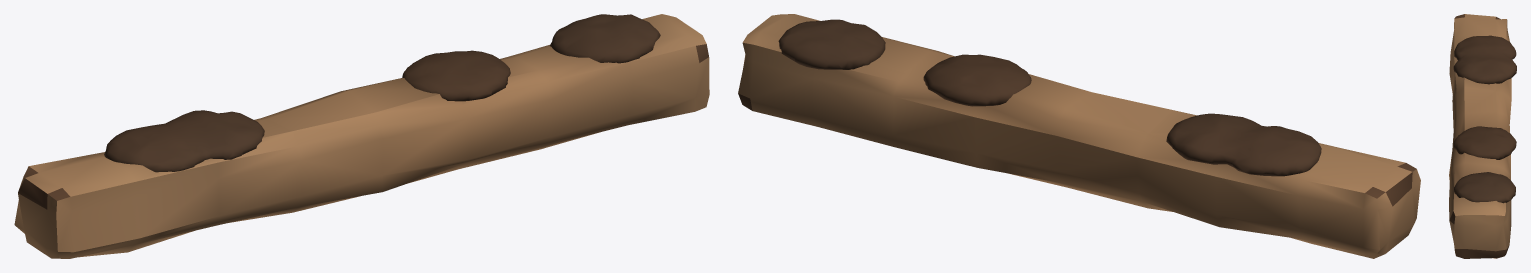
File: canopy_bench_lip_lod1.glb
3 views of the same model, side by side, from view 1: azimuth 30°, elevation 25°; view 2: azimuth 150°, elevation 25°; view 3: azimuth 270°, elevation 25° (orthographic). The views are drawn at different scales.
Visible parts, largest first — view 1: canopy_bench_lip.001; view 2: canopy_bench_lip.001; view 3: canopy_bench_lip.001.
Boxes of the visible parts, x1,y1,x2,y2 form: canopy_bench_lip.001: [14, 14, 709, 258]; canopy_bench_lip.001: [738, 14, 1420, 258]; canopy_bench_lip.001: [1449, 14, 1516, 258].
Size of the model in its own units: 20.16 by 2.73 by 2.84.
